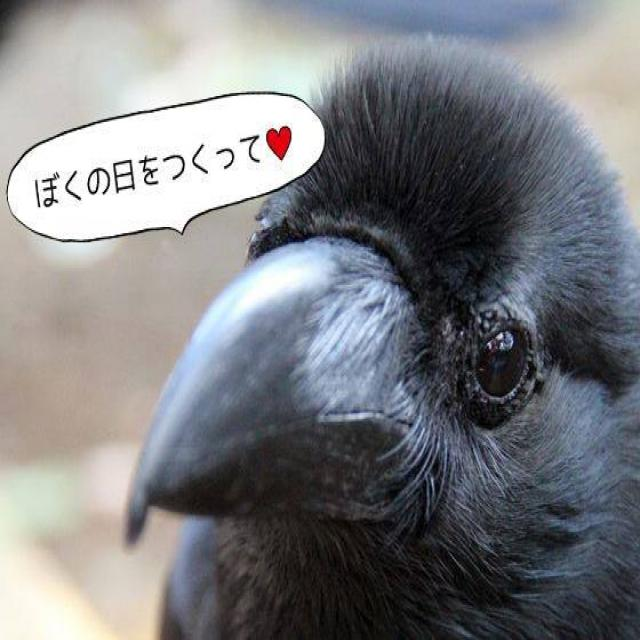crow: (114, 37, 640, 640)
